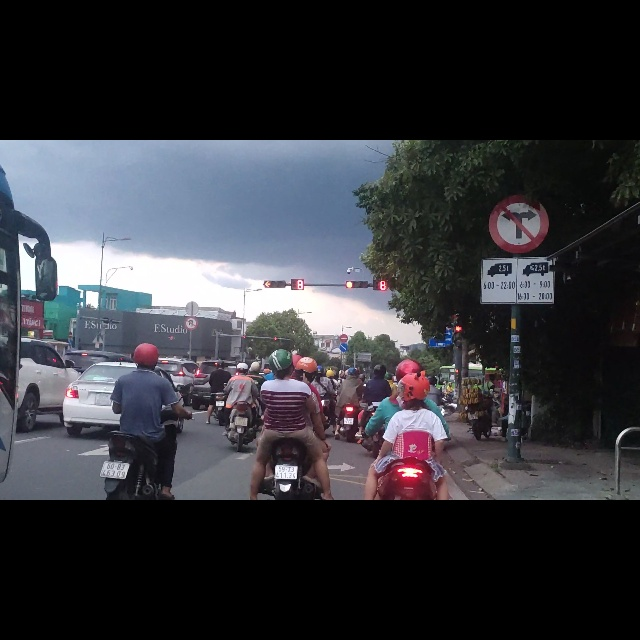bien_chi_dan: (488, 97, 549, 204), (481, 209, 555, 292), (184, 314, 198, 339), (339, 361, 348, 377), (339, 345, 348, 360)
